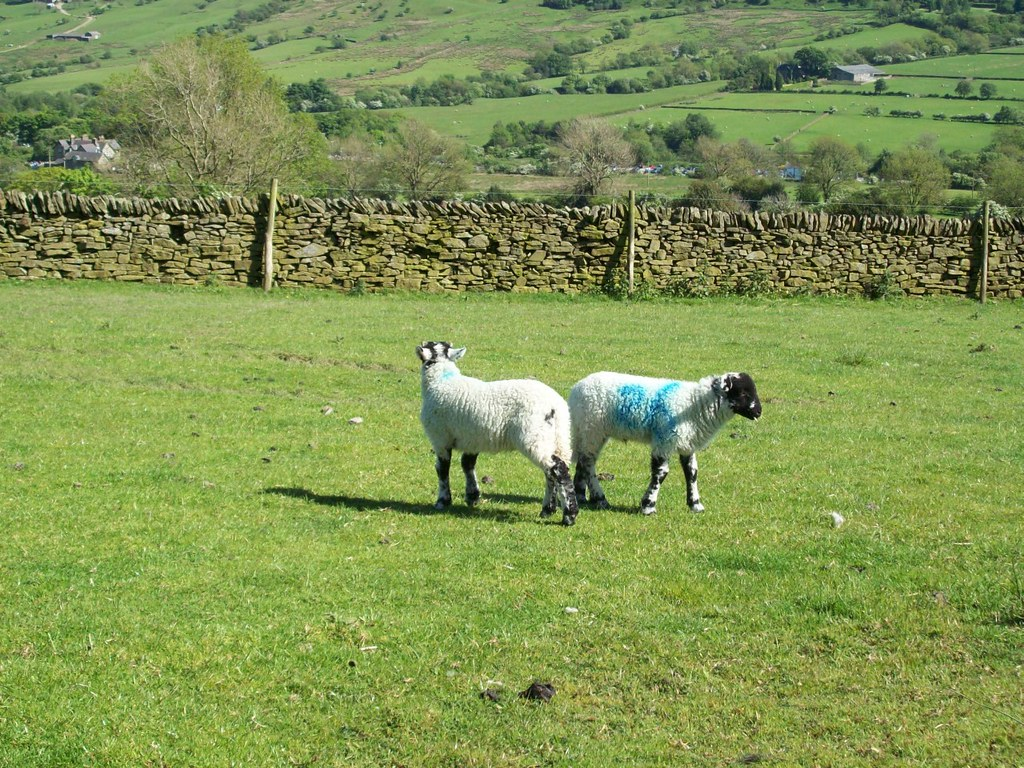sheep: (416, 333, 581, 532), (567, 357, 763, 516)
